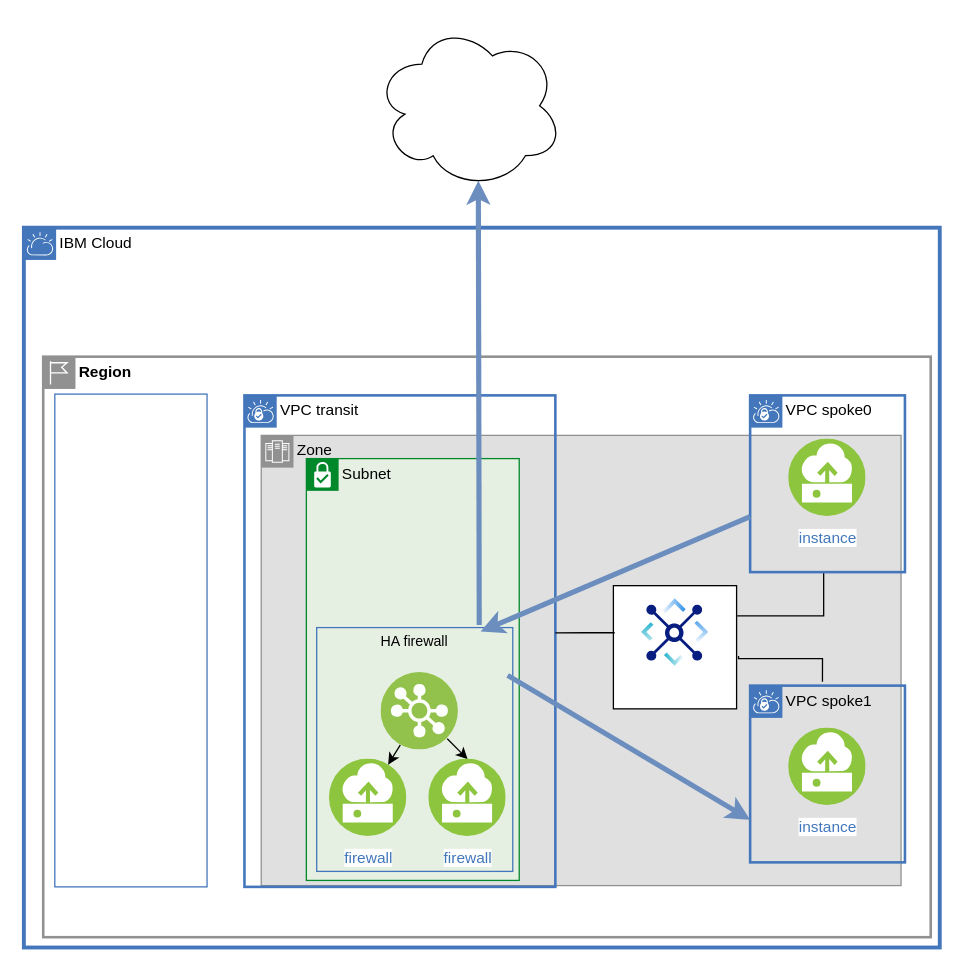
This 964x971 diagram has some shape labels left out. Each missing label, with the centre of its shape:
internet: (468,105)
nlb: (419,710)
Shared services: (130,640)
Transit Gateway: (674,632)
